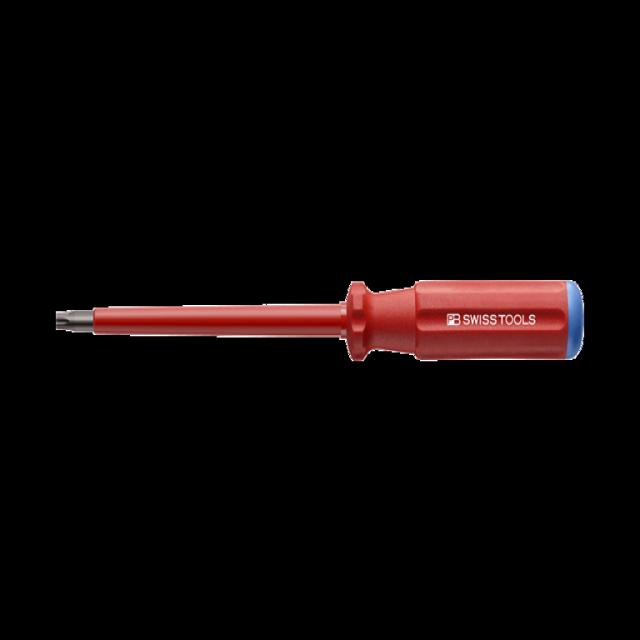Screwdriver: (56, 281, 583, 361)
